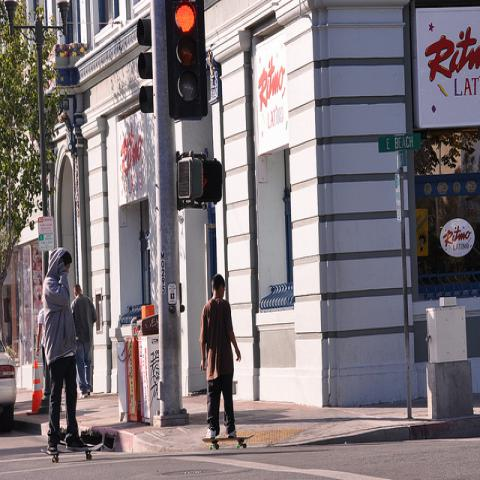car: (0, 334, 18, 438)
